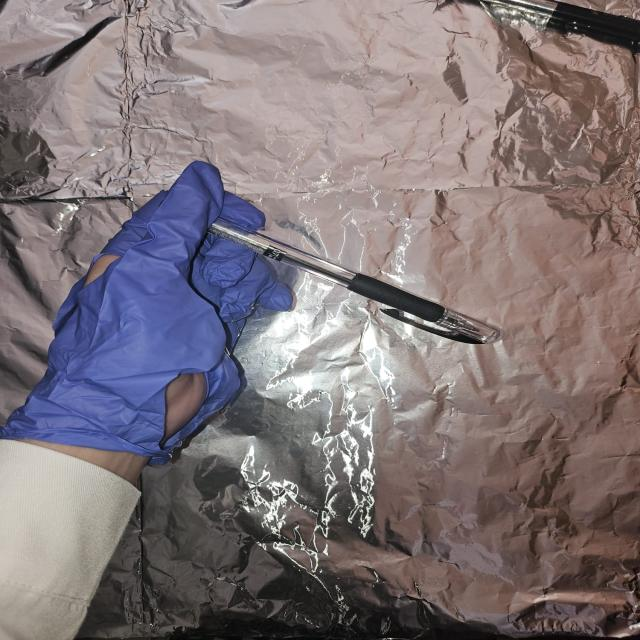gloves_damaged: (0, 156, 294, 475)
